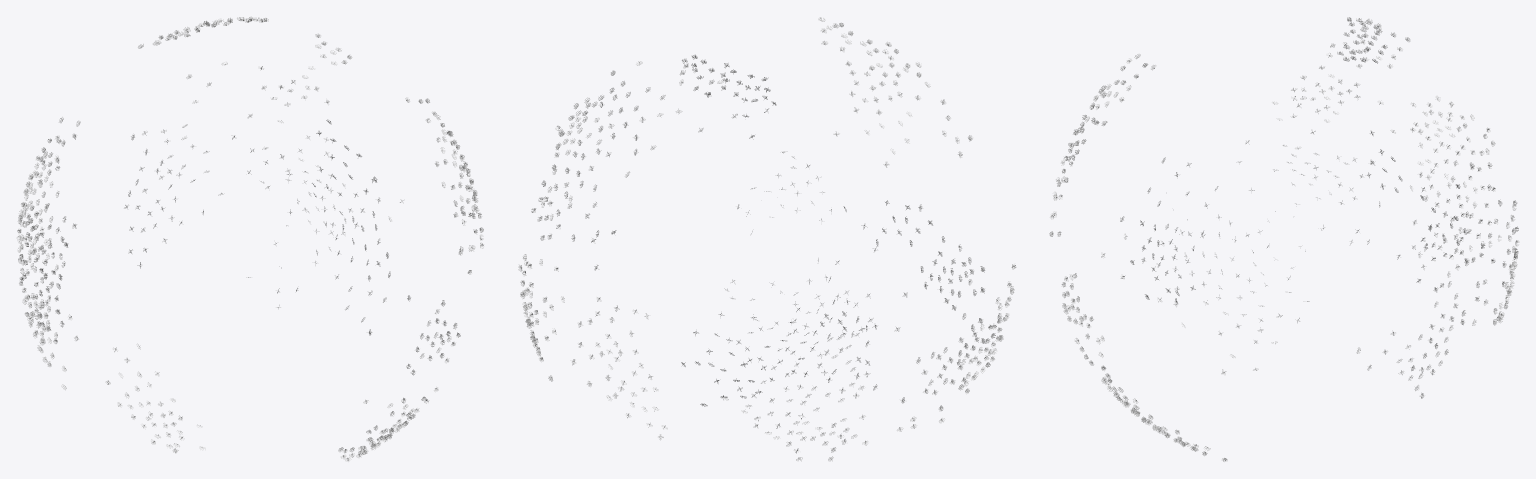
The model's file is Grasses.fbx.
3 views of the same model, side by side, from view 1: azimuth 30°, elevation 25°; view 2: azimuth 150°, elevation 25°; view 3: azimuth 270°, elevation 25° (orthographic). The views are drawn at different scales.
Parts seen in each view (by area): view 1: Grasses; view 2: Grasses; view 3: Grasses.
Part boxes in pixels (bbox=[...]): Grasses: bbox=[16, 16, 483, 461]; Grasses: bbox=[518, 17, 1016, 461]; Grasses: bbox=[1049, 17, 1519, 461].
Bounding box in the file's own units: 412 × 412 × 378.
Materials: 1 (1 with a texture image).
